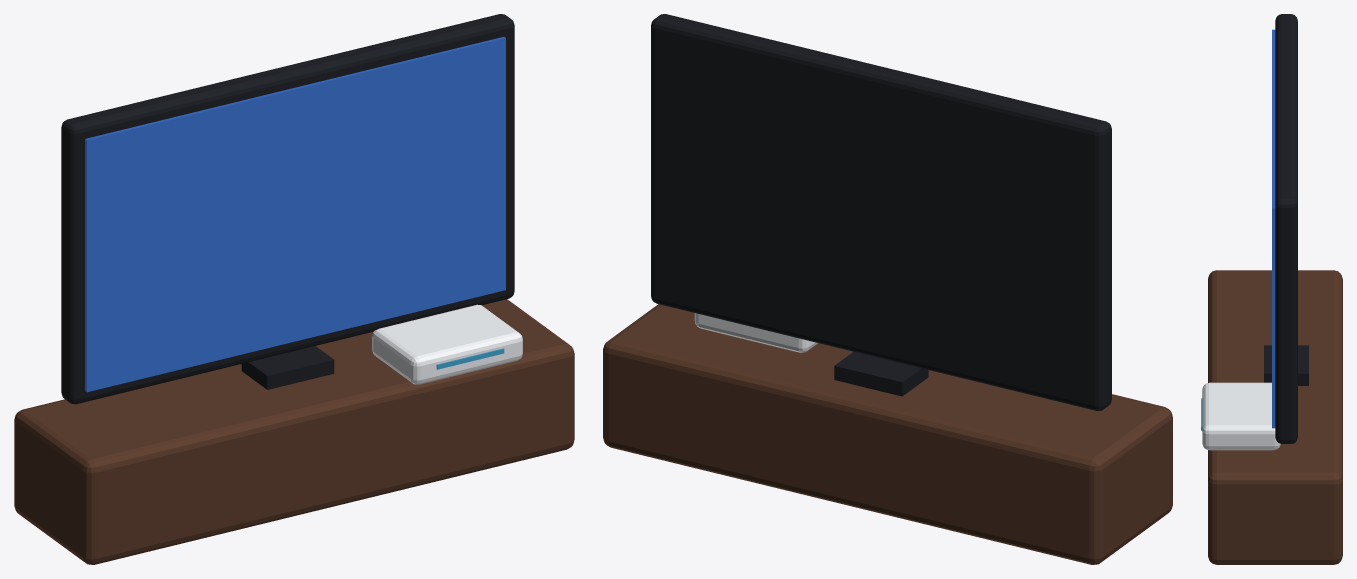
Rendered from tele.glb.
3 views of the same model, side by side, from view 1: azimuth 30°, elevation 25°; view 2: azimuth 150°, elevation 25°; view 3: azimuth 270°, elevation 25° (orthographic). The views are drawn at different scales.
Visible parts, largest first — view 1: pantalla, Cube, Cube.001, Cube.003, Cube.002; view 2: Cube.001, Cube, Cube.002, Cube.003; view 3: Cube, Cube.001, Cube.003, pantalla, Cube.002.
Part boxes in pixels (x1,y1,x2,y2): pantalla: [85, 37, 505, 392]; Cube: [14, 299, 574, 564]; Cube.001: [61, 14, 514, 404]; Cube.003: [372, 304, 522, 384]; Cube.002: [241, 346, 334, 389]; Cube.001: [651, 14, 1111, 410]; Cube: [603, 304, 1172, 564]; Cube.002: [834, 351, 928, 396]; Cube.003: [694, 313, 817, 352]; Cube: [1208, 270, 1342, 564]; Cube.001: [1275, 14, 1297, 443]; Cube.003: [1202, 382, 1280, 450]; pantalla: [1272, 29, 1275, 428]; Cube.002: [1264, 345, 1308, 385].
Bounding box in the file's own units: 2.2 × 1.75 × 0.63.
